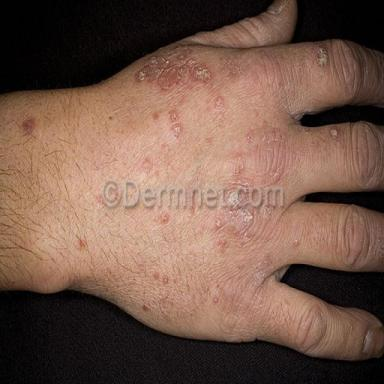Psoriasis: (134, 44, 211, 91), (218, 59, 243, 79), (169, 109, 182, 139), (313, 43, 329, 67), (20, 117, 35, 135), (326, 127, 341, 140), (215, 97, 223, 109)
